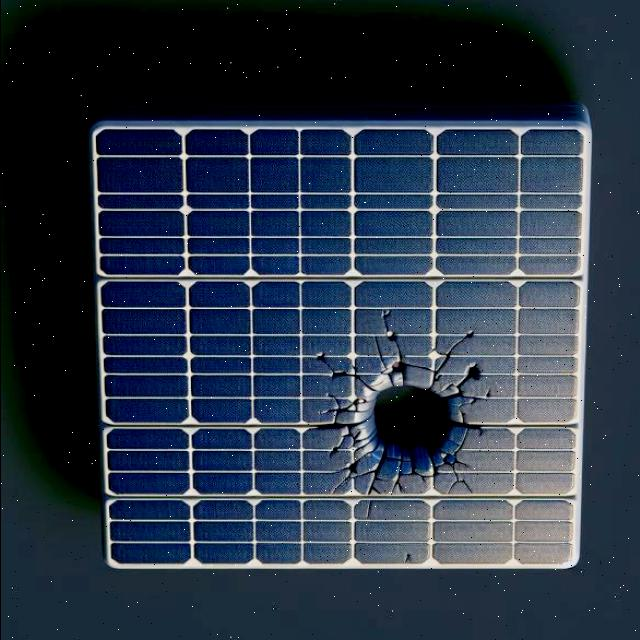Anomaly Solar Panel: (92, 128, 583, 568)
Structural Damage: (304, 335, 503, 517), (429, 332, 484, 373), (386, 341, 435, 384), (366, 450, 398, 502), (326, 466, 379, 497), (441, 453, 474, 498), (342, 363, 381, 398), (389, 463, 412, 499), (369, 335, 388, 372), (465, 361, 486, 387), (455, 429, 471, 456), (365, 503, 373, 520), (322, 361, 333, 373)
